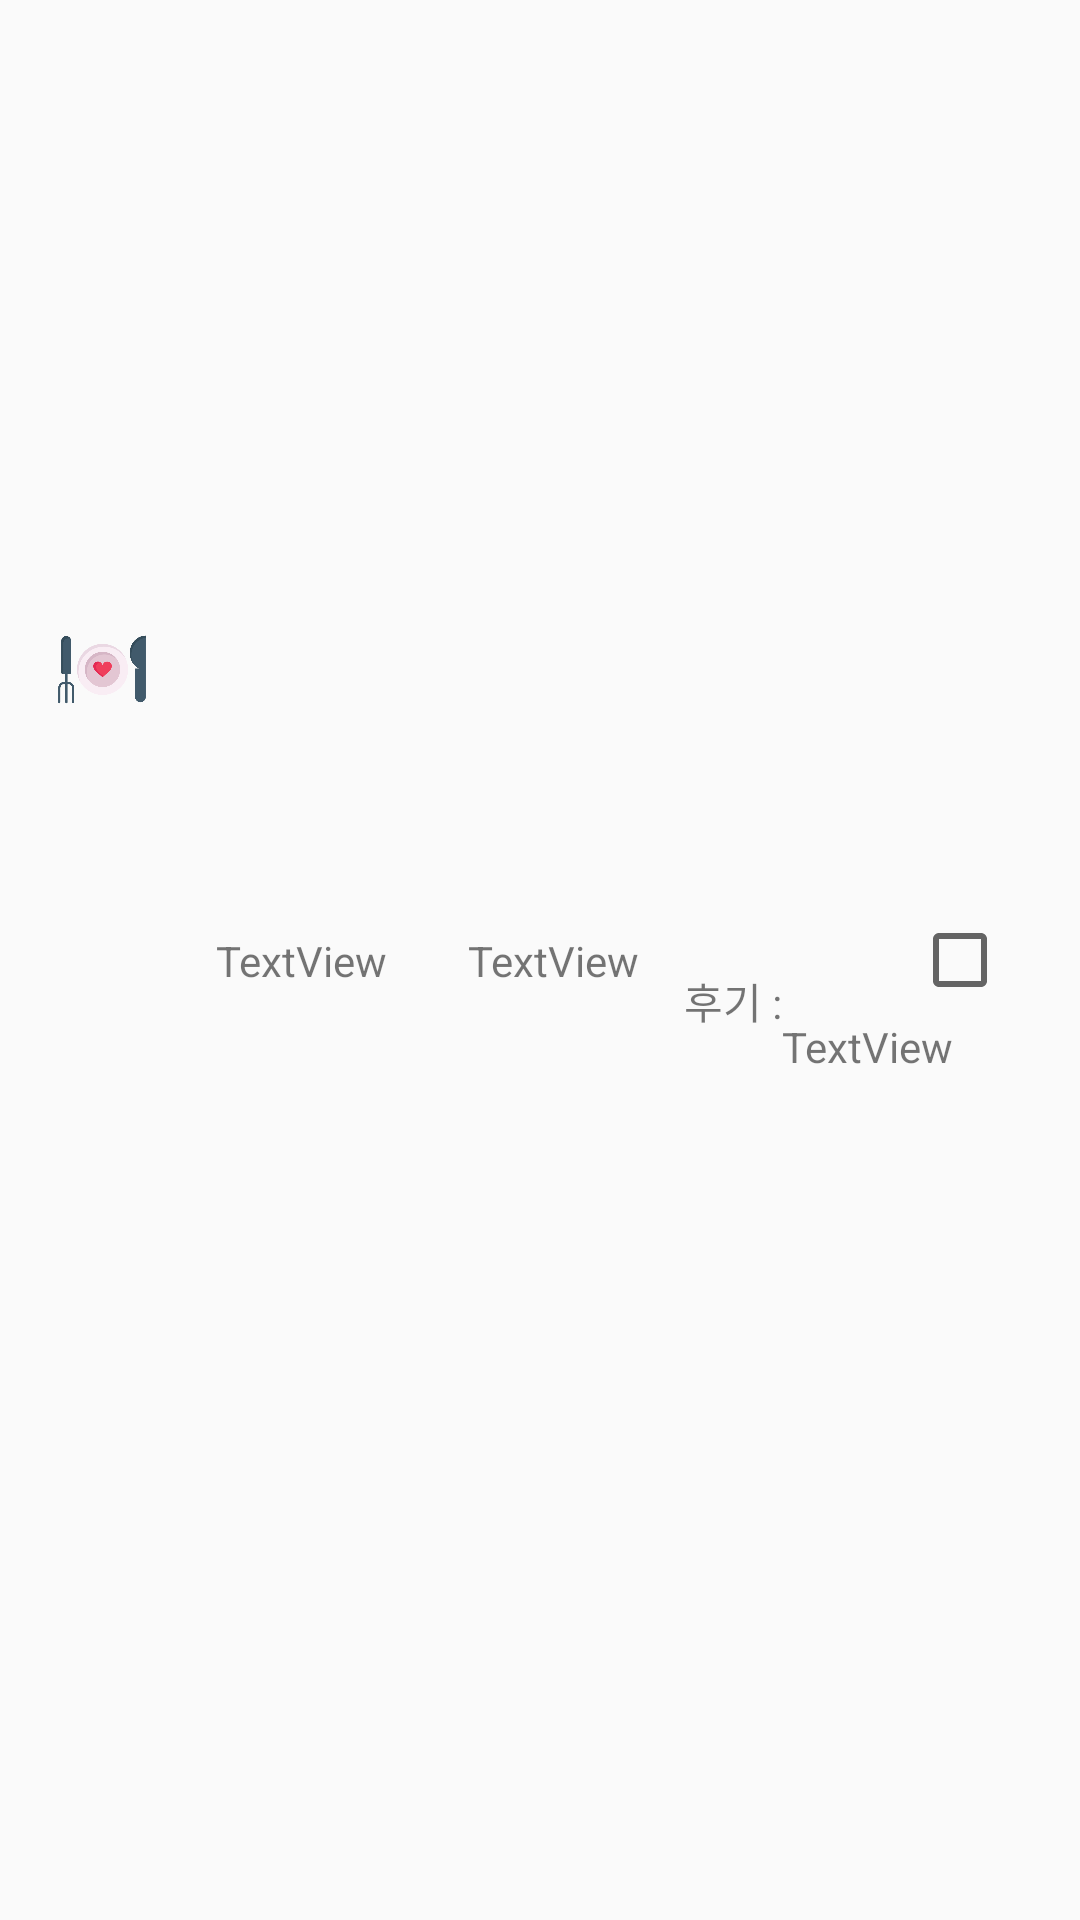

Named icons in this screenshot (1080 x 1920) and their bounding boxes, (x1, y1, x2, y2):
rfood: (58, 635, 146, 703)
